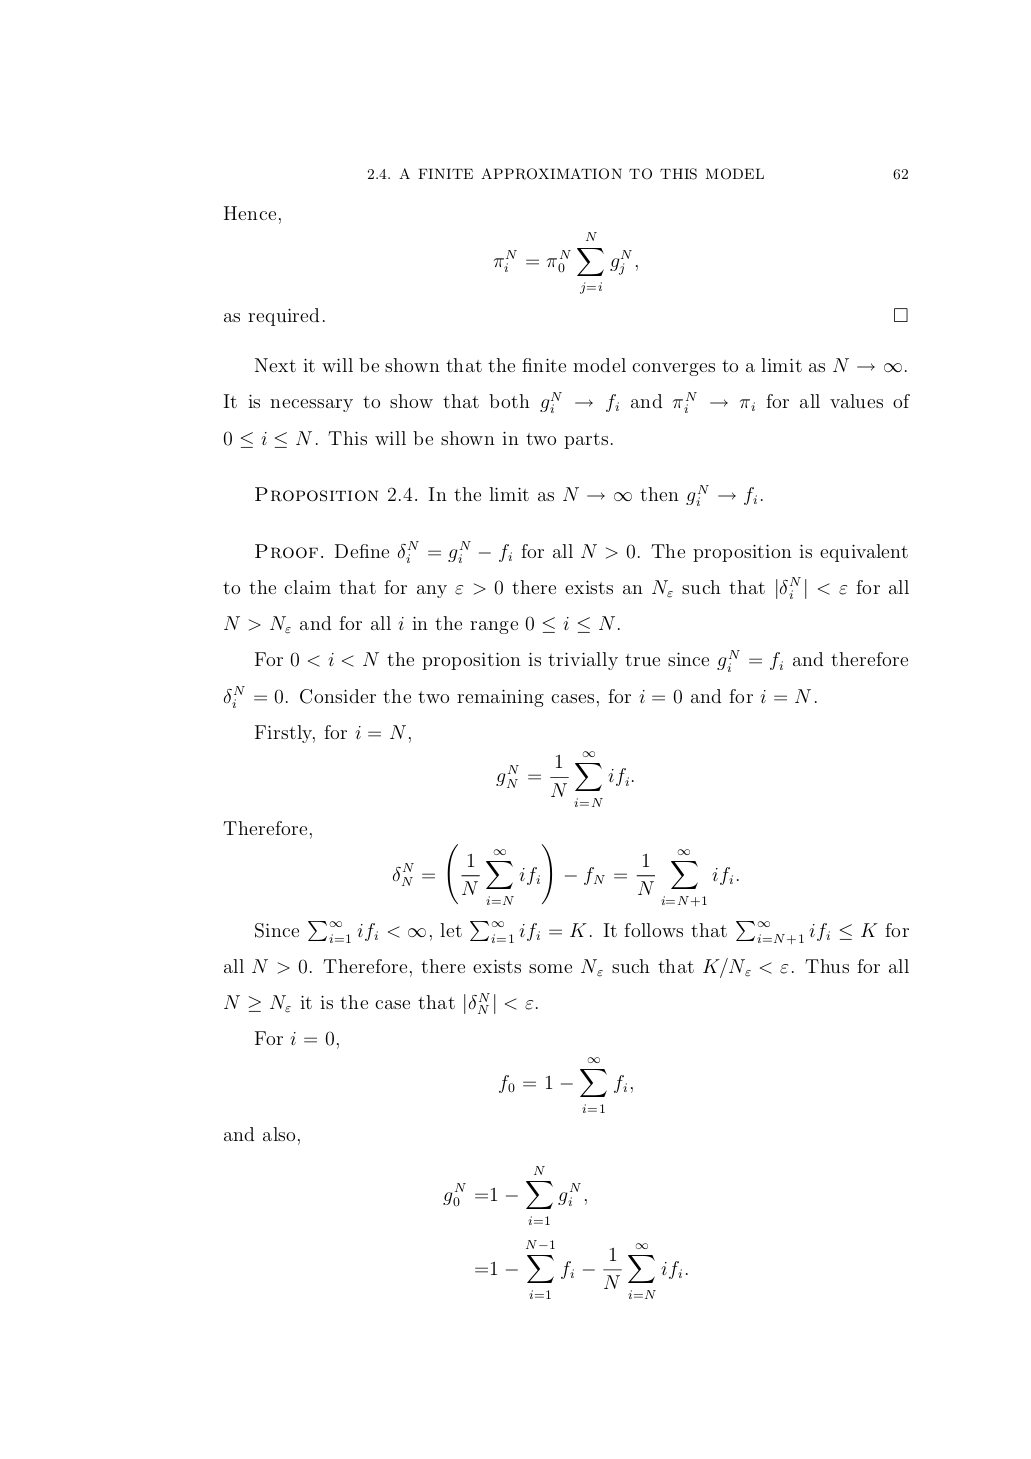formula: (392, 842, 738, 907), (475, 1238, 687, 1299), (493, 232, 637, 293), (443, 1166, 586, 1224), (497, 750, 633, 806), (499, 1057, 632, 1112)
